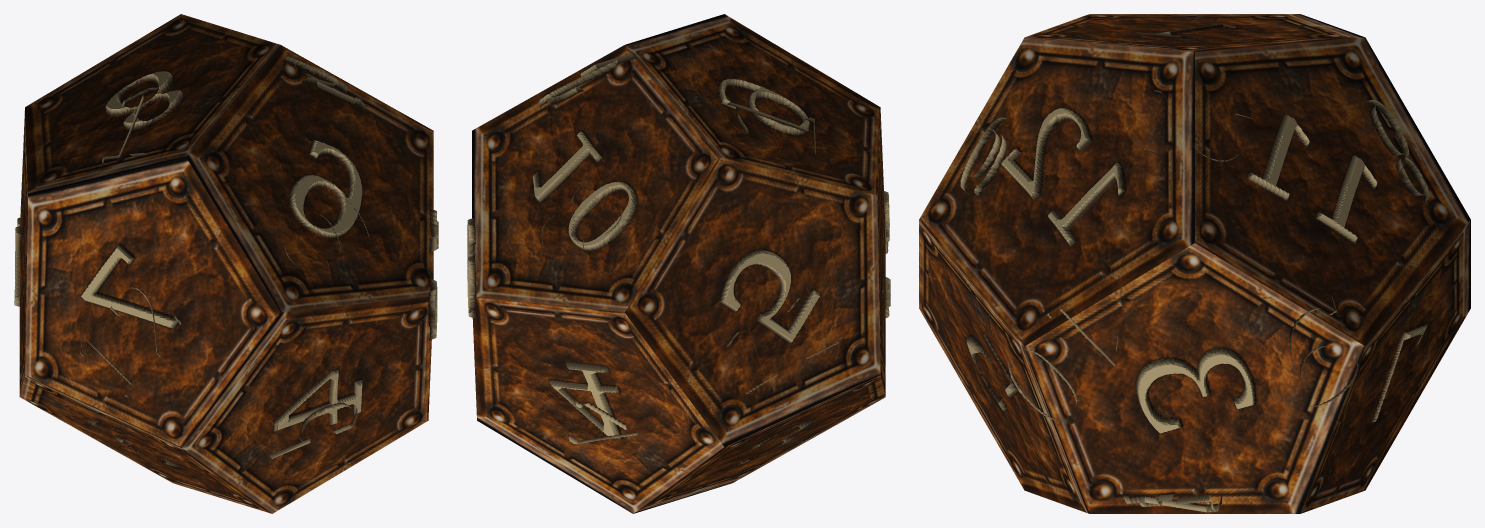
The model's file is Ancient_Bronze_Smooth_Recessed_Gold_D12.glb.
The picture shows the model from 3 angles, left to right: view 1: azimuth 30°, elevation 25°; view 2: azimuth 150°, elevation 25°; view 3: azimuth 270°, elevation 25°; orthographic projection. The views are drawn at different scales.
Parts seen in each view (by area): view 1: world; view 2: world; view 3: world.
Part boxes in pixels (x1,y1,x2,y2): world: [14, 14, 438, 513]; world: [467, 14, 890, 513]; world: [919, 14, 1470, 513].
Bounding box in the file's own units: 1.87 × 1.87 × 1.87.
Materials: 1 (1 with a texture image).
